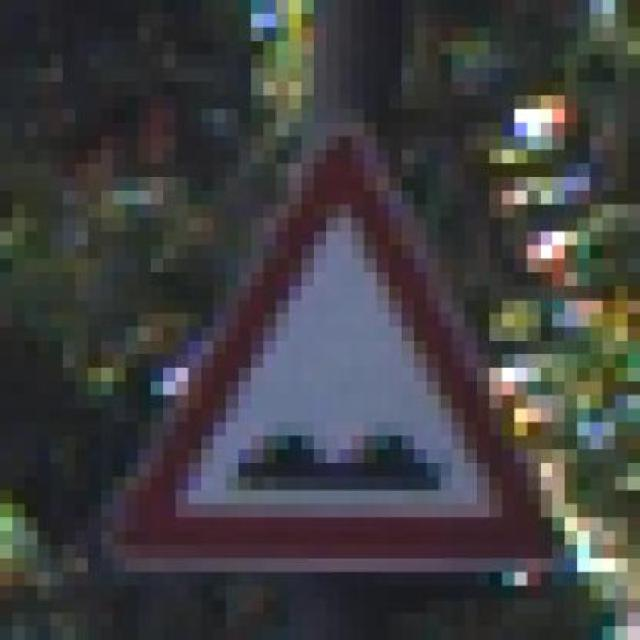Uneven Road: (113, 123, 578, 572)
